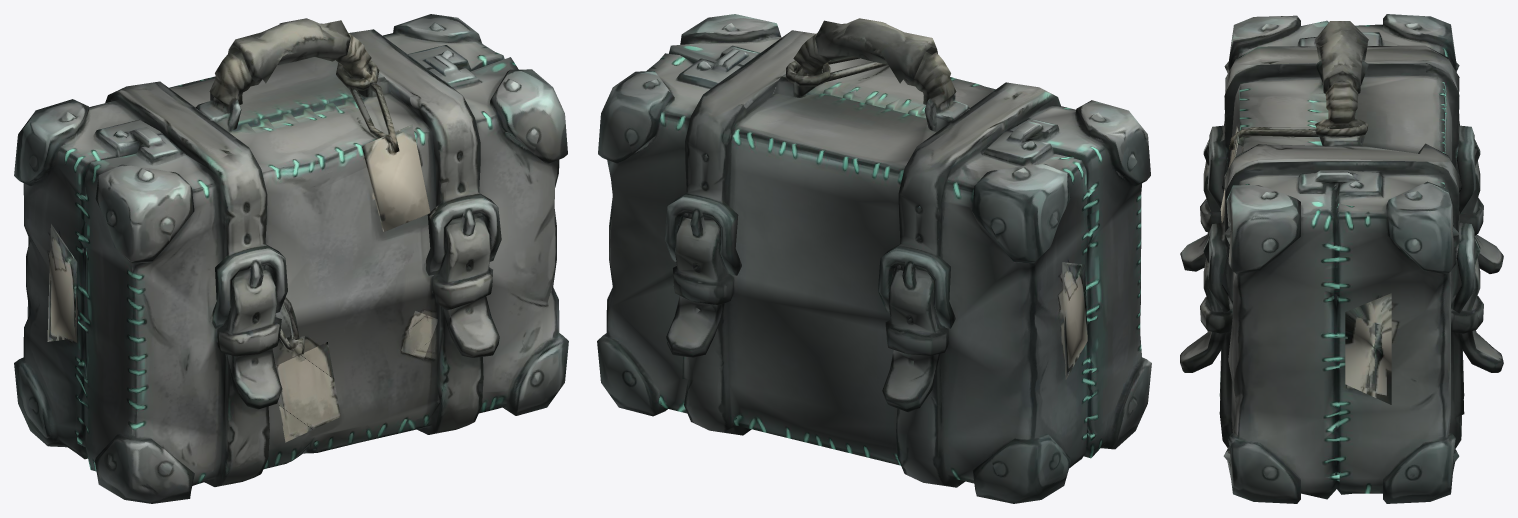
The model's file is tll_ch6_suitcase.glb.
3 renders of one model, left to right at view 1: azimuth 30°, elevation 25°; view 2: azimuth 150°, elevation 25°; view 3: azimuth 270°, elevation 25°, orthographic. The views are drawn at different scales.
Parts seen in each view (by area): view 1: tripo_node_eeda9b6c-f402-483f-b471-1aad450234a2; view 2: tripo_node_eeda9b6c-f402-483f-b471-1aad450234a2; view 3: tripo_node_eeda9b6c-f402-483f-b471-1aad450234a2.
Boxes of the visible parts, x1,y1,x2,y2 form: tripo_node_eeda9b6c-f402-483f-b471-1aad450234a2: [14, 14, 568, 503]; tripo_node_eeda9b6c-f402-483f-b471-1aad450234a2: [597, 14, 1151, 503]; tripo_node_eeda9b6c-f402-483f-b471-1aad450234a2: [1180, 14, 1503, 503].
Bounding box in the file's own units: 0.9774 × 0.8435 × 0.656.
Materials: 1 (1 with a texture image).
